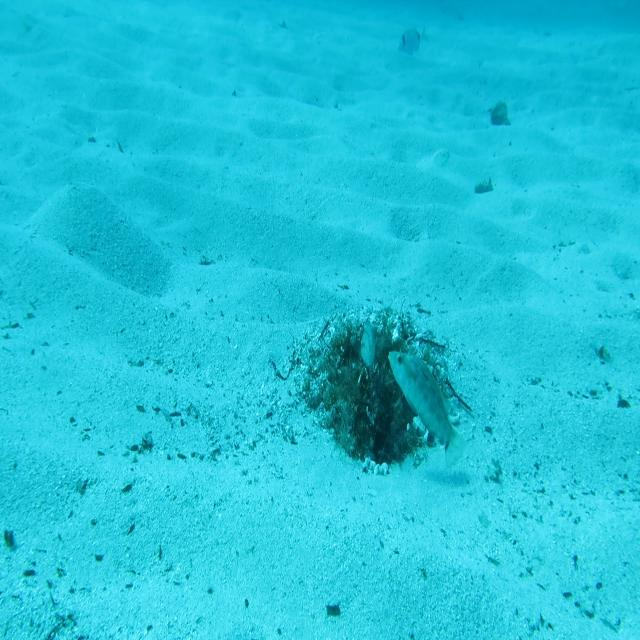LF: (387, 349, 468, 470)
core_nest: (353, 328, 396, 363)
female: (361, 322, 376, 379)
nest: (293, 297, 462, 480)
other_fish: (396, 22, 430, 57)
vegetation: (487, 99, 512, 126), (472, 178, 495, 195), (323, 600, 342, 620)
